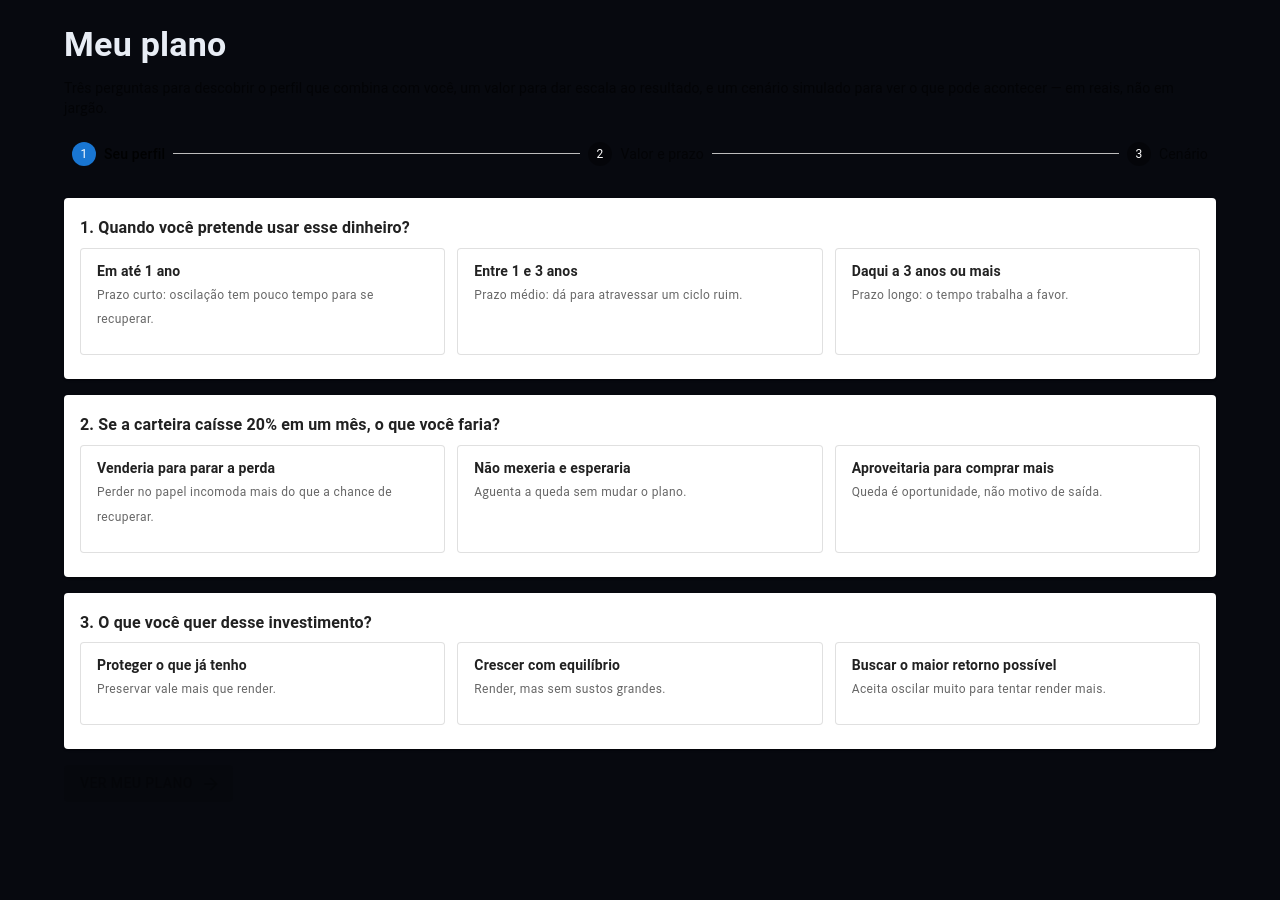
ClientExperiencePage › suggests Arrojado for mid horizon, patience and max return
What coordinates should you click on to do the following:
click the text "Entre 1 e 3 anos"
I would click on:
 (526, 270)
Its box is [474,260,578,280].
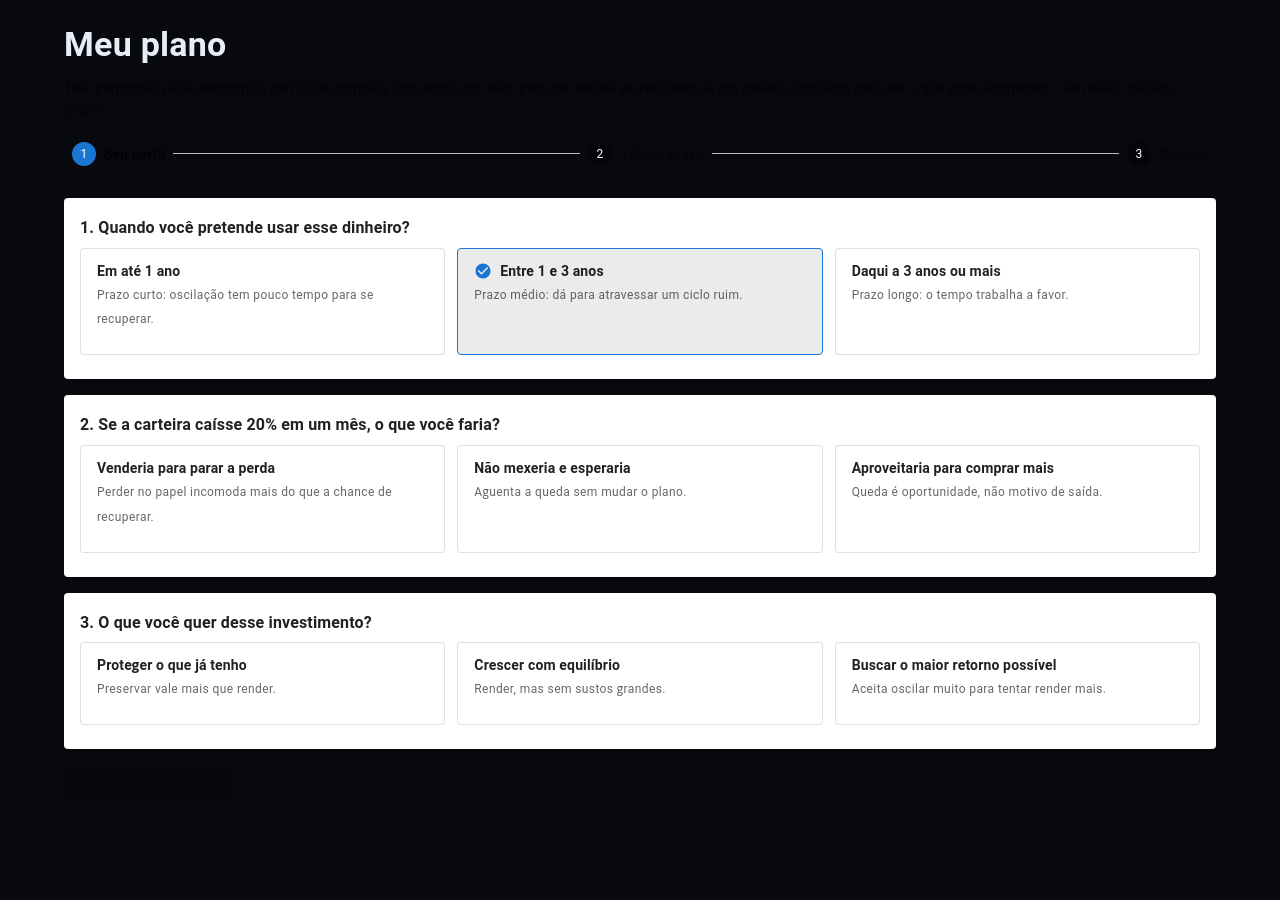
What coordinates should you click on to do the following:
click the text "Não mexeria e esperaria"
I would click on:
 (552, 468)
Its box is [474,458,631,478].
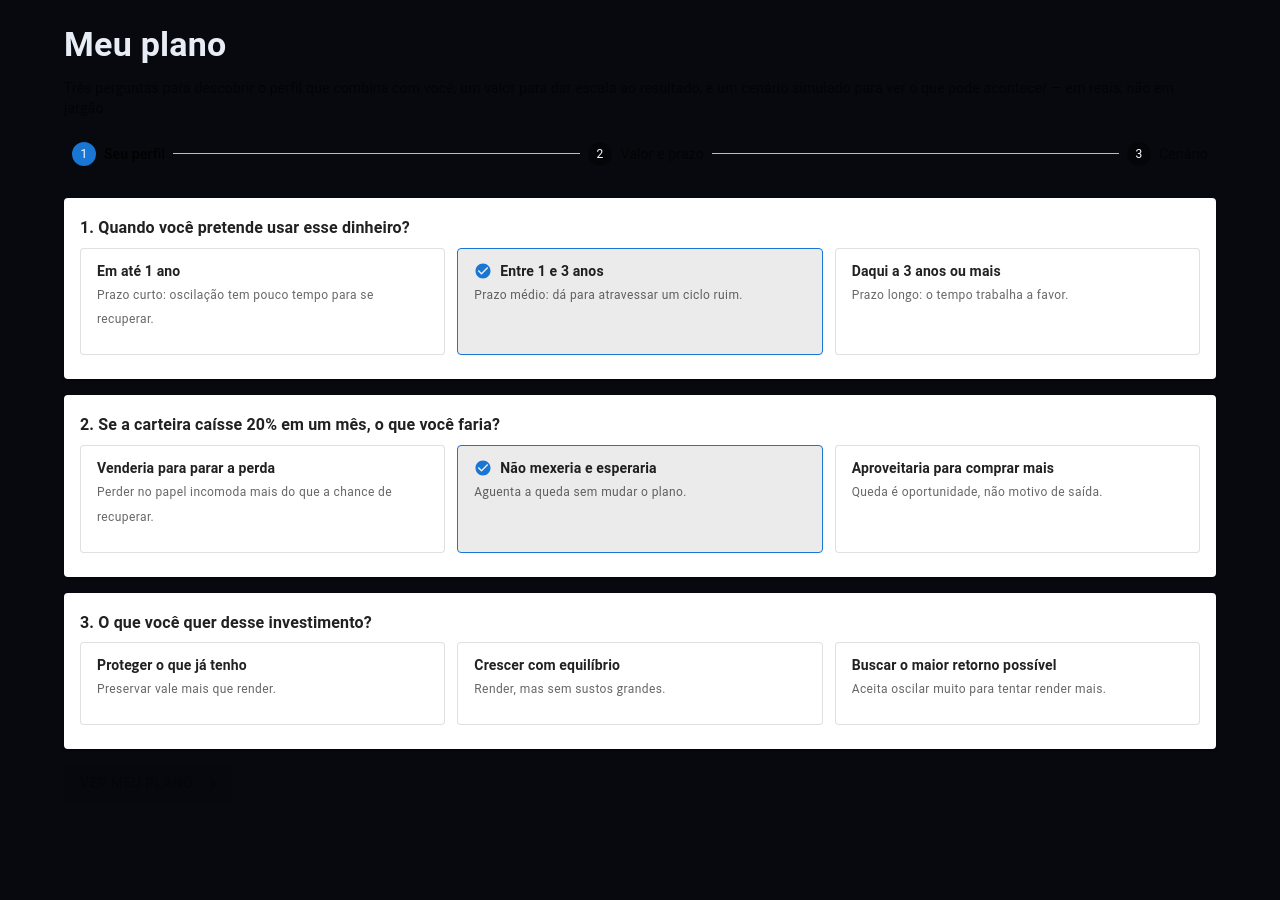
What coordinates should you click on to do the following:
click the text "Buscar o maior retorno possível"
I would click on:
 (954, 665)
Its box is [852,655,1057,675].
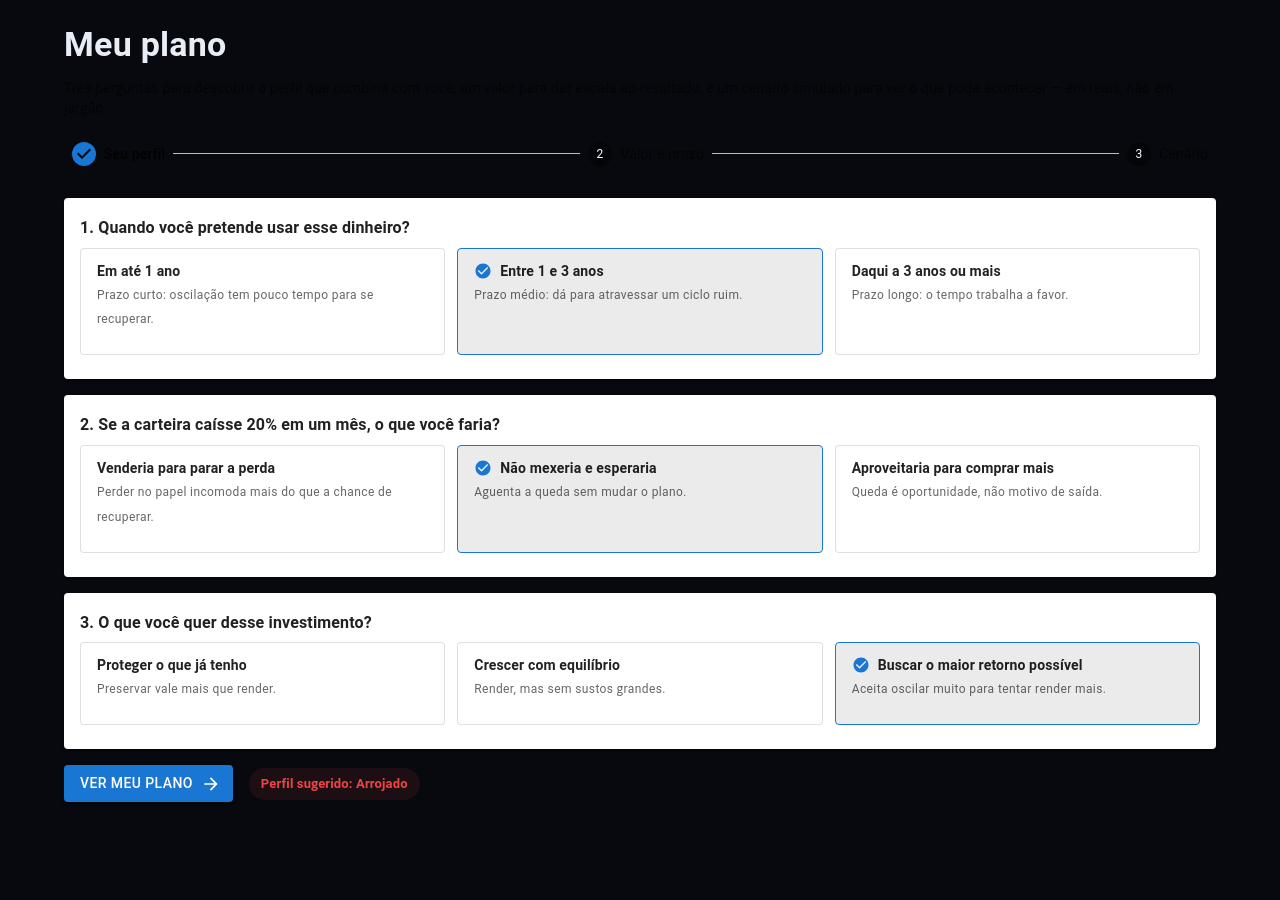
Check: the text "Perfil sugerido: Arrojado" is shown, box [249,774,420,793]
